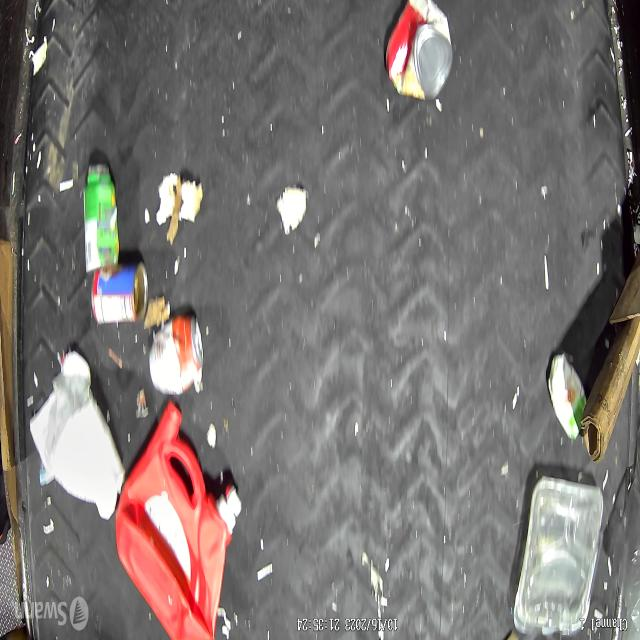can: (384, 0, 454, 101), (148, 313, 204, 396), (91, 260, 148, 328)
non_white_jug: (115, 401, 243, 640)
